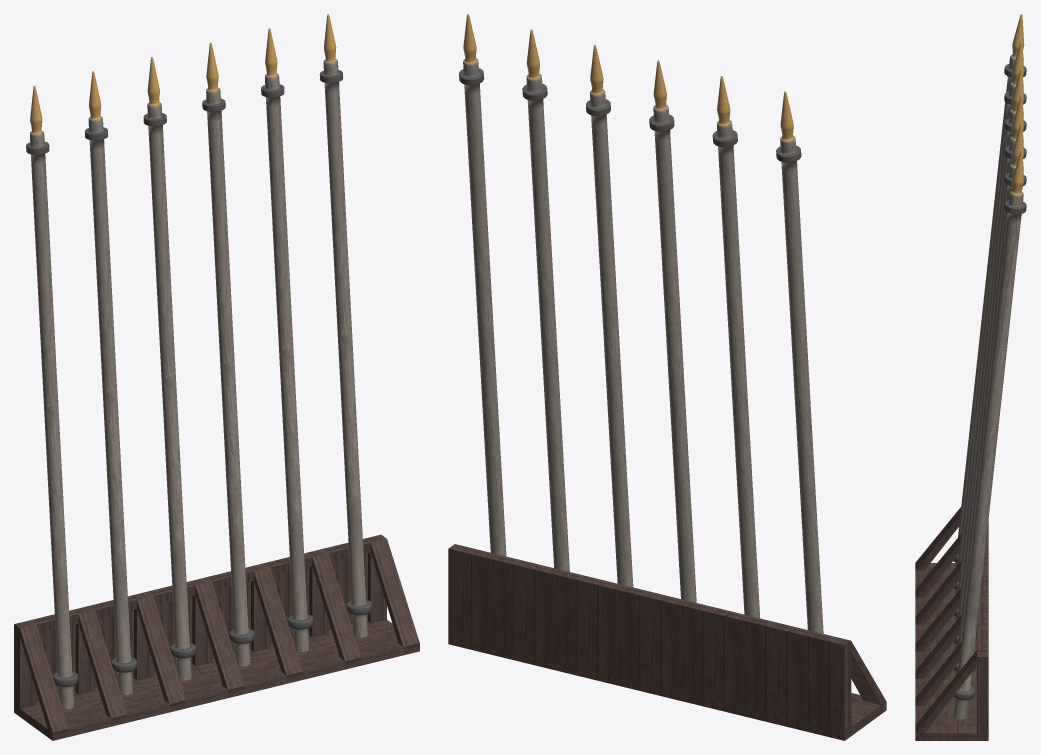
Rendered from Spears.gltf.
3 renders of one model, left to right at view 1: azimuth 30°, elevation 25°; view 2: azimuth 150°, elevation 25°; view 3: azimuth 270°, elevation 25°, orthographic. The views are drawn at different scales.
Visible parts, largest first — view 1: Halter, Lanze.004, Lanze.003, Lanze.005, Lanze.002, Lanze.001, Lanze.000; view 2: Halter, Lanze.000, Lanze.001, Lanze.002, Lanze.004, Lanze.005, Lanze.003; view 3: Halter, Lanze.005, Lanze.001, Lanze.004, Lanze.000, Lanze.002, Lanze.003.
Boxes of the visible parts, left/top/right/bottom form: Halter: left=14, top=534, right=419, bottom=740; Lanze.004: left=261, top=28, right=313, bottom=651; Lanze.003: left=202, top=42, right=254, bottom=666; Lanze.005: left=319, top=14, right=371, bottom=637; Lanze.002: left=143, top=57, right=195, bottom=680; Lanze.001: left=85, top=71, right=136, bottom=694; Lanze.000: left=26, top=85, right=78, bottom=709; Halter: left=448, top=544, right=886, bottom=740; Lanze.000: left=776, top=91, right=823, bottom=633; Lanze.001: left=459, top=75, right=776, bottom=618; Lanze.002: left=649, top=60, right=696, bottom=602; Lanze.004: left=522, top=29, right=569, bottom=571; Lanze.005: left=459, top=14, right=506, bottom=556; Lanze.003: left=586, top=45, right=633, bottom=587; Halter: left=915, top=507, right=988, bottom=740; Lanze.005: left=953, top=150, right=1026, bottom=719; Lanze.001: left=953, top=41, right=1026, bottom=595; Lanze.004: left=953, top=123, right=1026, bottom=676; Lanze.000: left=953, top=14, right=1026, bottom=568; Lanze.002: left=953, top=68, right=1026, bottom=622; Lanze.003: left=953, top=95, right=1026, bottom=649.
Bounding box in the file's own units: 1.05 × 1.65 × 0.2901.
4 materials, 3 textured.
